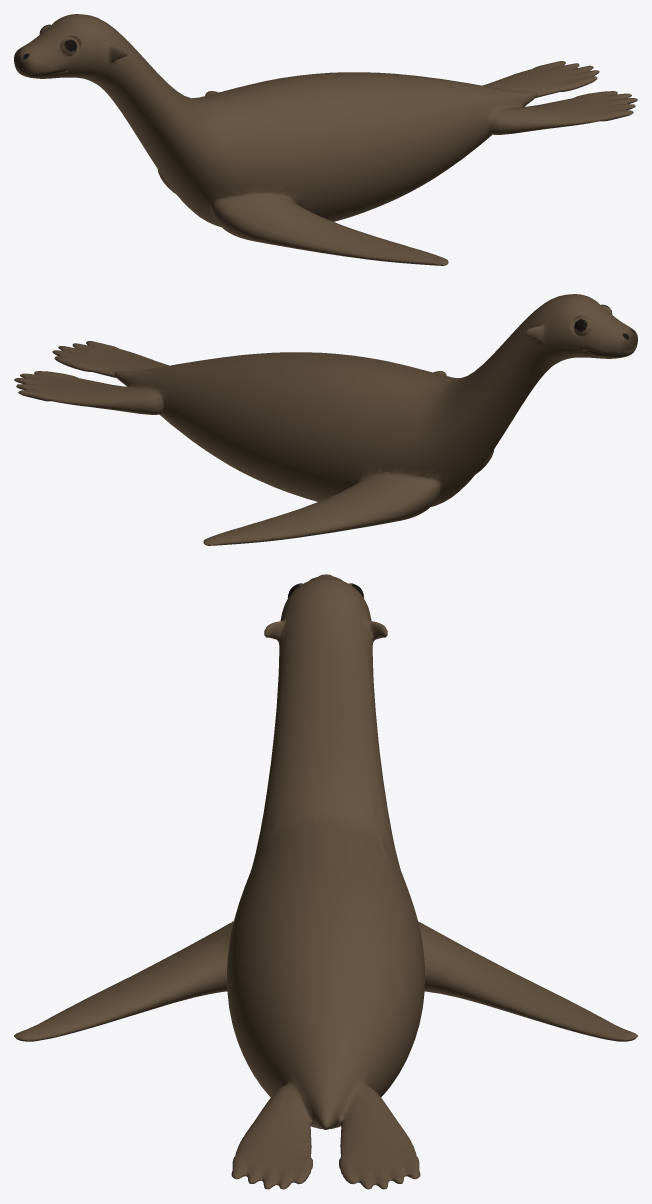
The picture shows the model from 3 angles, top to bottom: view 1: azimuth 30°, elevation 25°; view 2: azimuth 150°, elevation 25°; view 3: azimuth 270°, elevation 25°; orthographic projection. The views are drawn at different scales.
Parts seen in each view (by area): view 1: NEW433_Continuous_Skin; view 2: NEW433_Continuous_Skin; view 3: NEW433_Continuous_Skin.
Part boxes in pixels (left/top/right/bottom): NEW433_Continuous_Skin: left=14, top=14, right=637, bottom=265; NEW433_Continuous_Skin: left=14, top=294, right=637, bottom=545; NEW433_Continuous_Skin: left=14, top=574, right=637, bottom=1189.
Bounding box in the file's own units: 1.58 × 0.6535 × 1.09.
